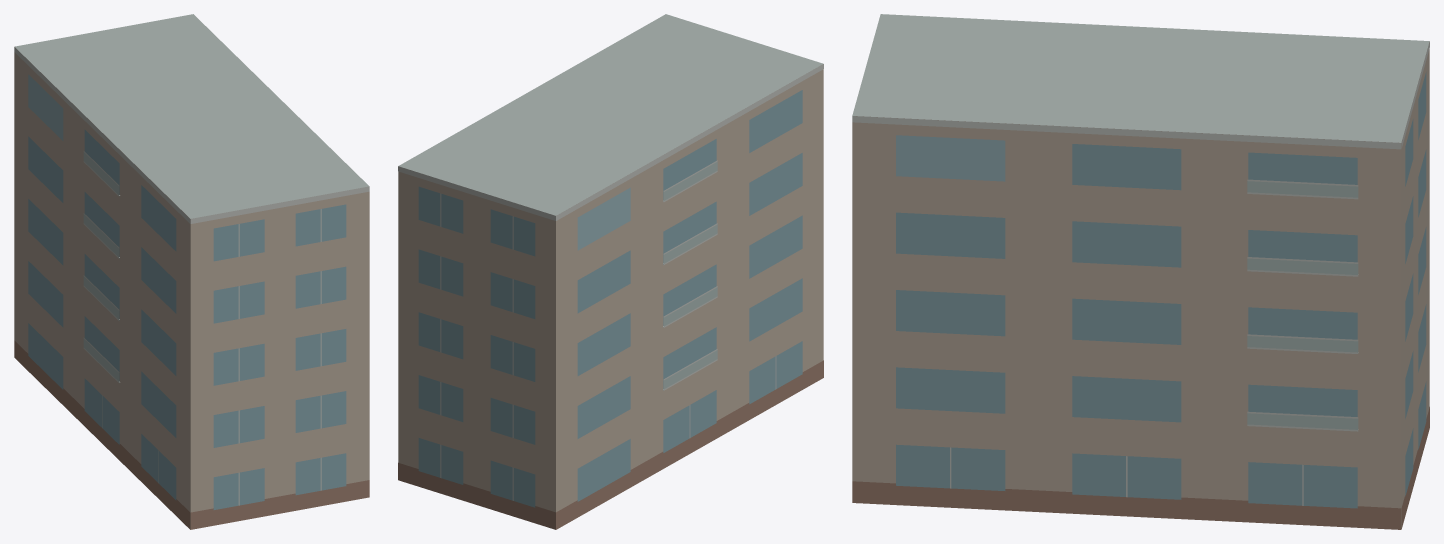
The model's file is survey-upis-32637834.glb.
3 views of the same model, side by side, from view 1: azimuth 30°, elevation 25°; view 2: azimuth 150°, elevation 25°; view 3: azimuth 270°, elevation 25° (orthographic). The views are drawn at different scales.
Visible parts, largest first — view 1: survey-upis-32637834.tmp; view 2: survey-upis-32637834.tmp; view 3: survey-upis-32637834.tmp.
Boxes of the visible parts, x1=… form: survey-upis-32637834.tmp: x1=14, y1=14, x2=369, y2=529; survey-upis-32637834.tmp: x1=398, y1=14, x2=823, y2=529; survey-upis-32637834.tmp: x1=852, y1=14, x2=1429, y2=529.
Size of the model in its own units: 10.37 by 14.5 by 19.62.
